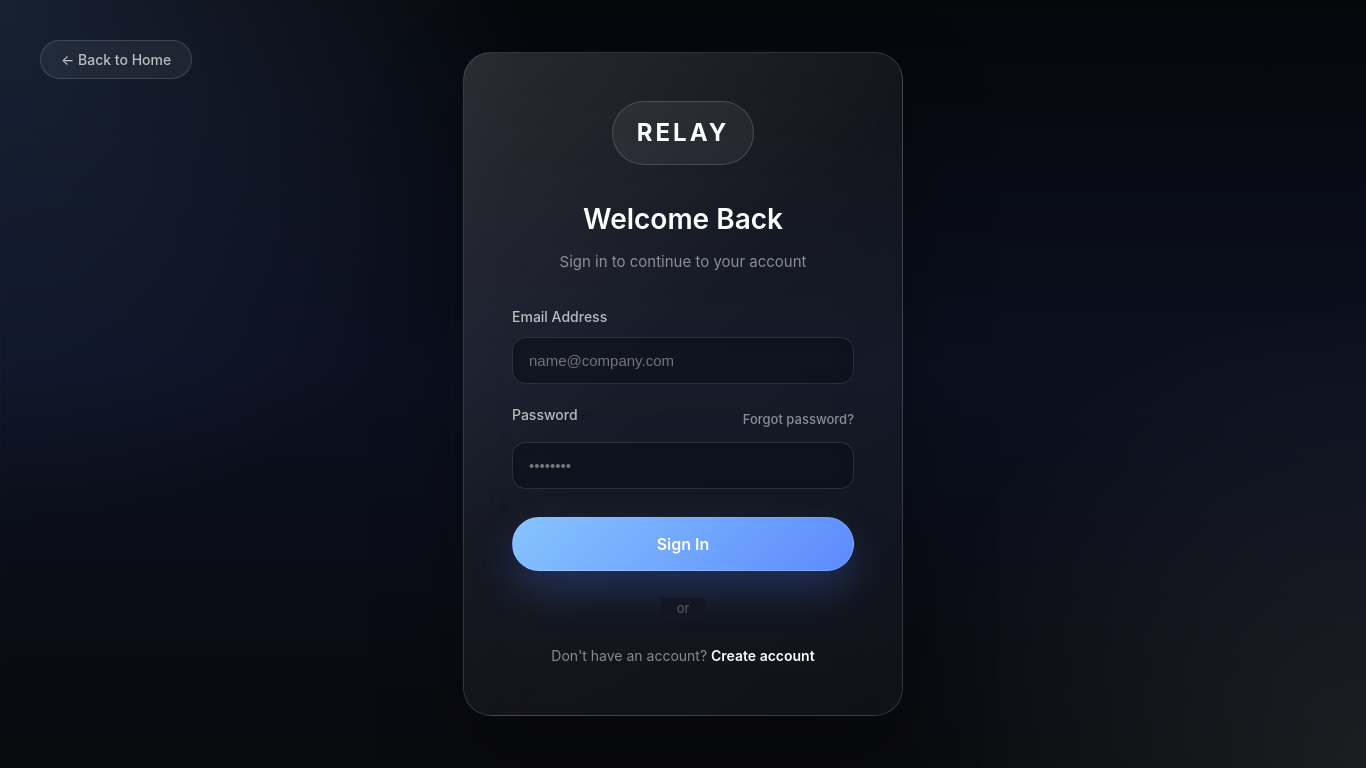
Test: Login Component › should show error when password is empty
The image size is (1366, 768).
Type "test@example.com" into the field labelled "Email Address" at (683, 360), box x1=512 y1=337 x2=854 y2=384
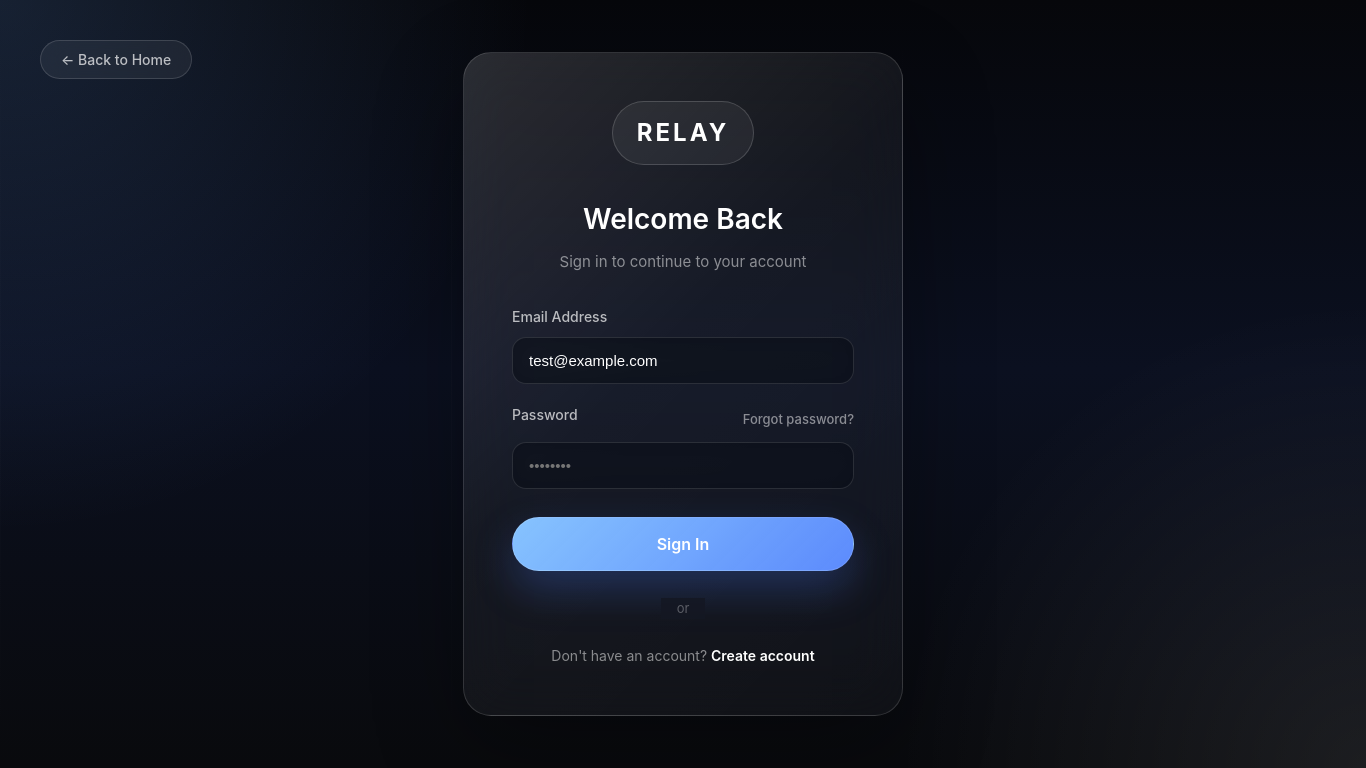
Click the button "Sign In" at (683, 544), box x1=512 y1=517 x2=854 y2=571
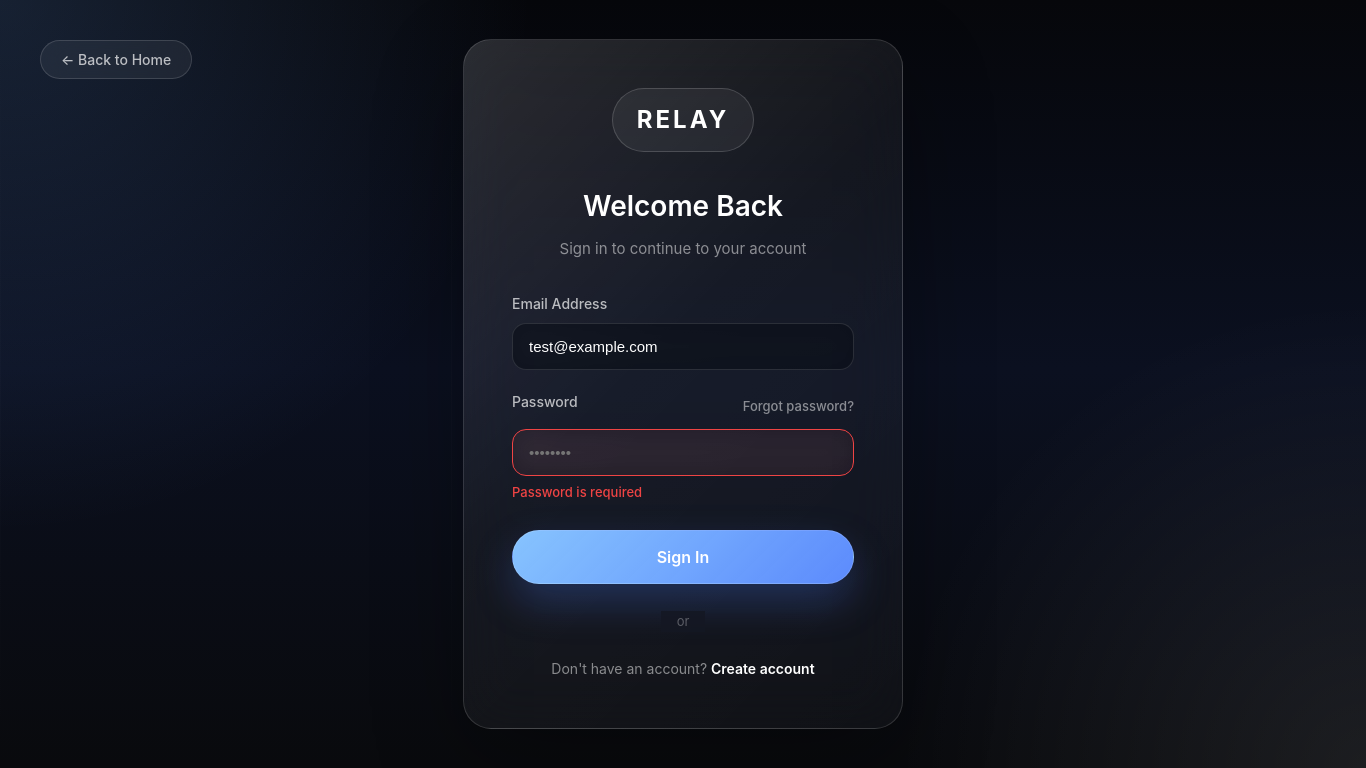
expect the text "Password is required" is shown: met, box x1=512 y1=484 x2=642 y2=500
